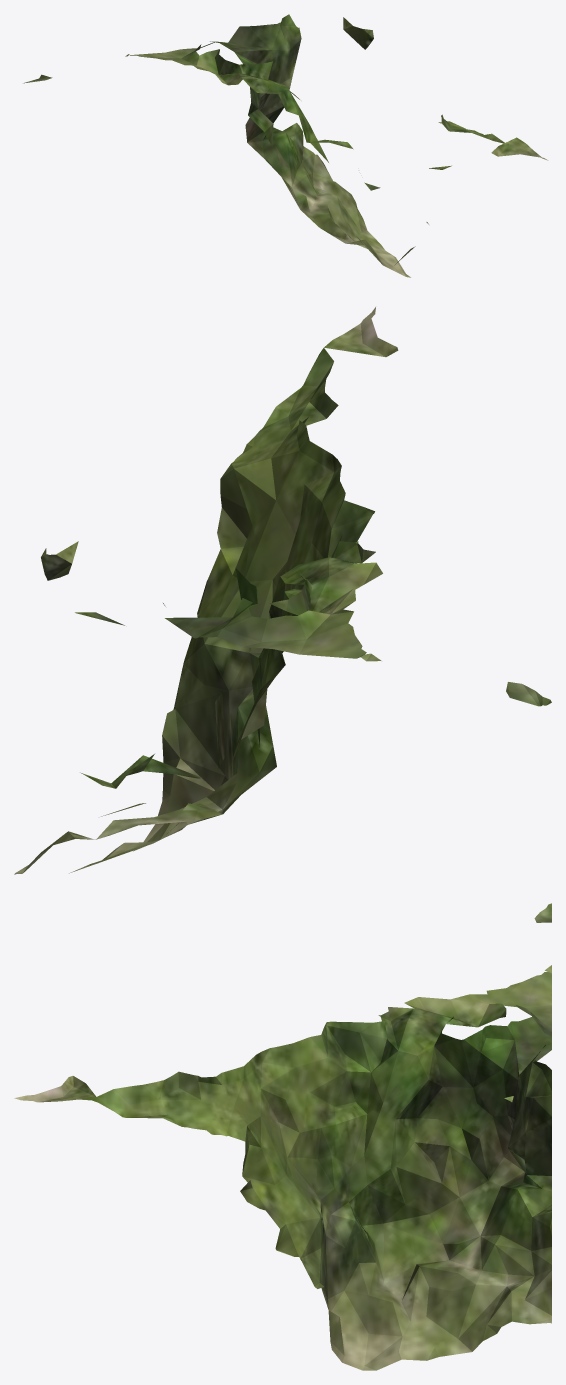
The picture shows the model from 3 angles, top to bottom: view 1: azimuth 30°, elevation 25°; view 2: azimuth 150°, elevation 25°; view 3: azimuth 270°, elevation 25°; orthographic projection. The views are drawn at different scales.
Size of the model in its own units: 16.02 by 10.45 by 18.68.
1 material, 1 textured.
